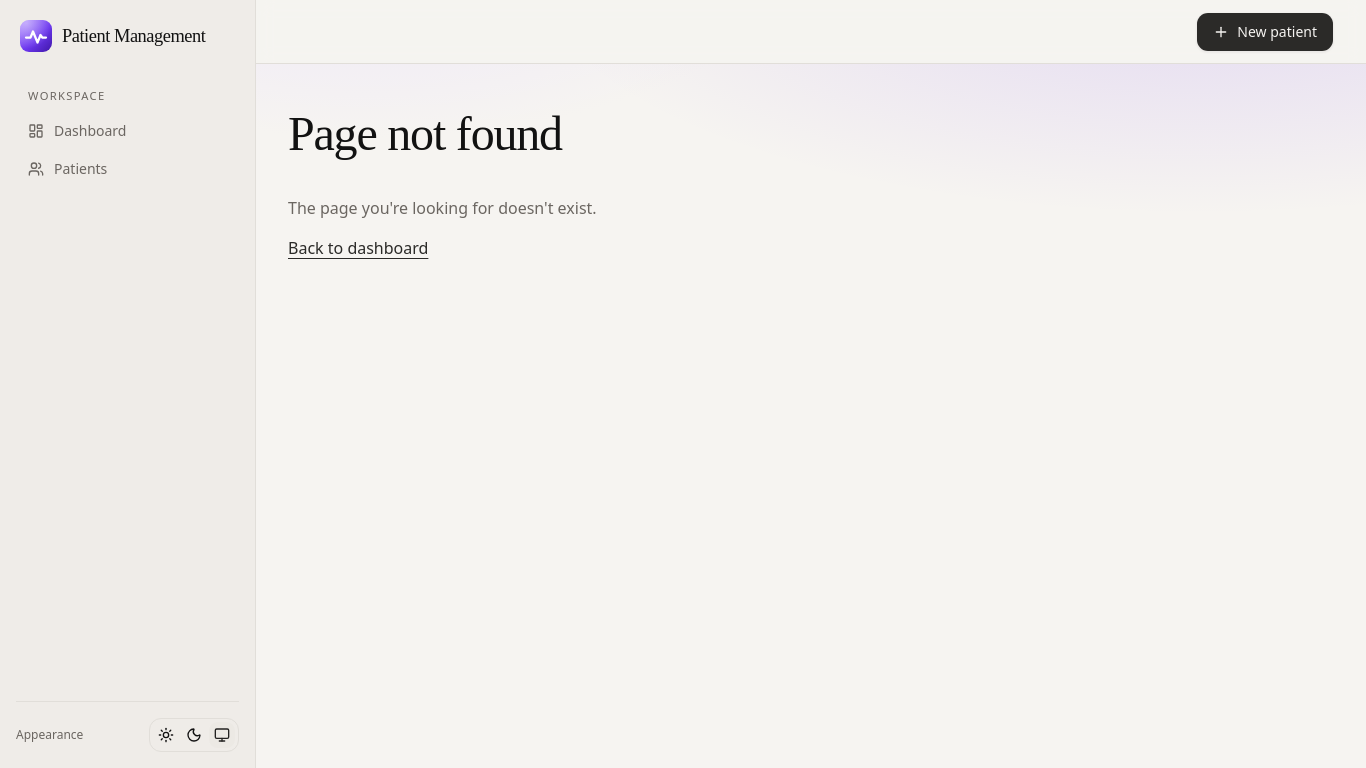
it: App routes › renders the 404 page inside the layout for unknown routes, with a link home
The image size is (1366, 768).
Expected: the heading "Page not found" is shown, top-left (288, 104), bottom-right (562, 164)
Expected: the navigation bar named "Primary" is shown, top-left (28, 121), bottom-right (126, 178)
Step 1. Click the link "Back to dashboard" → click(358, 248), box top-left (288, 237), bottom-right (428, 259)
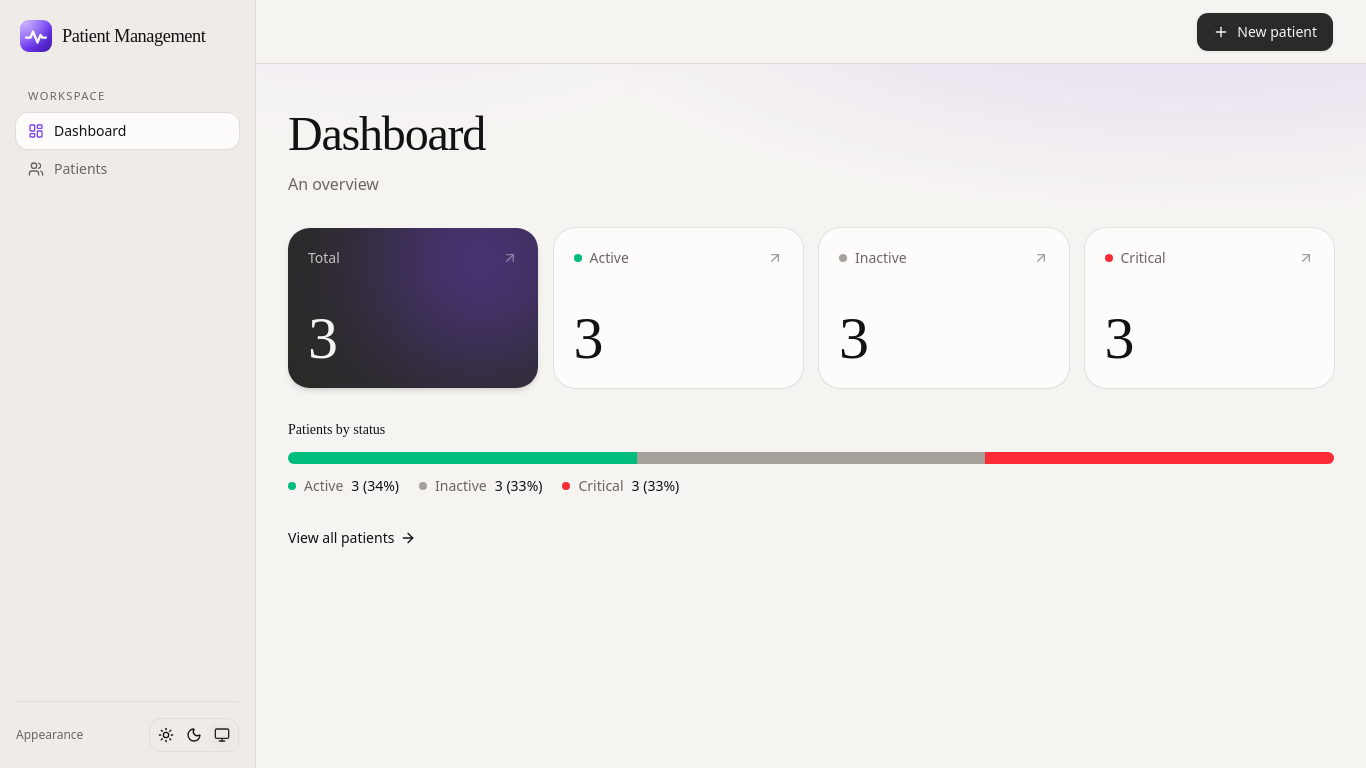
Result: the heading "Dashboard" is shown at top-left (288, 104), bottom-right (485, 164)
